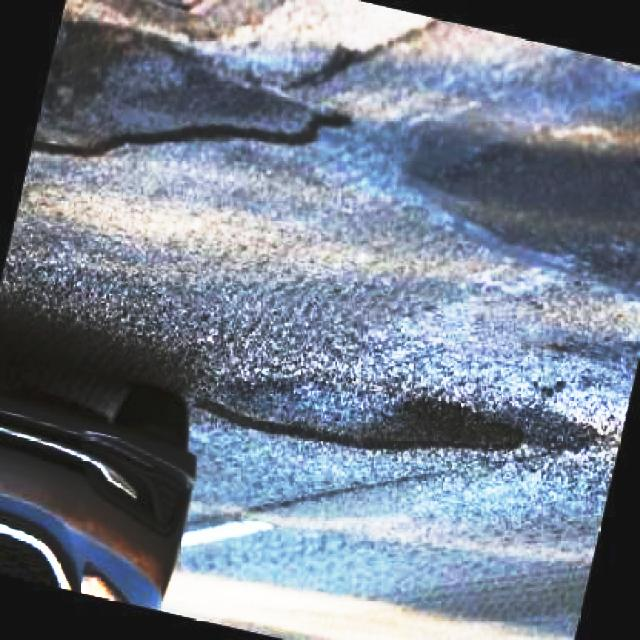pothole: (180, 331, 602, 458), (18, 21, 357, 156)
